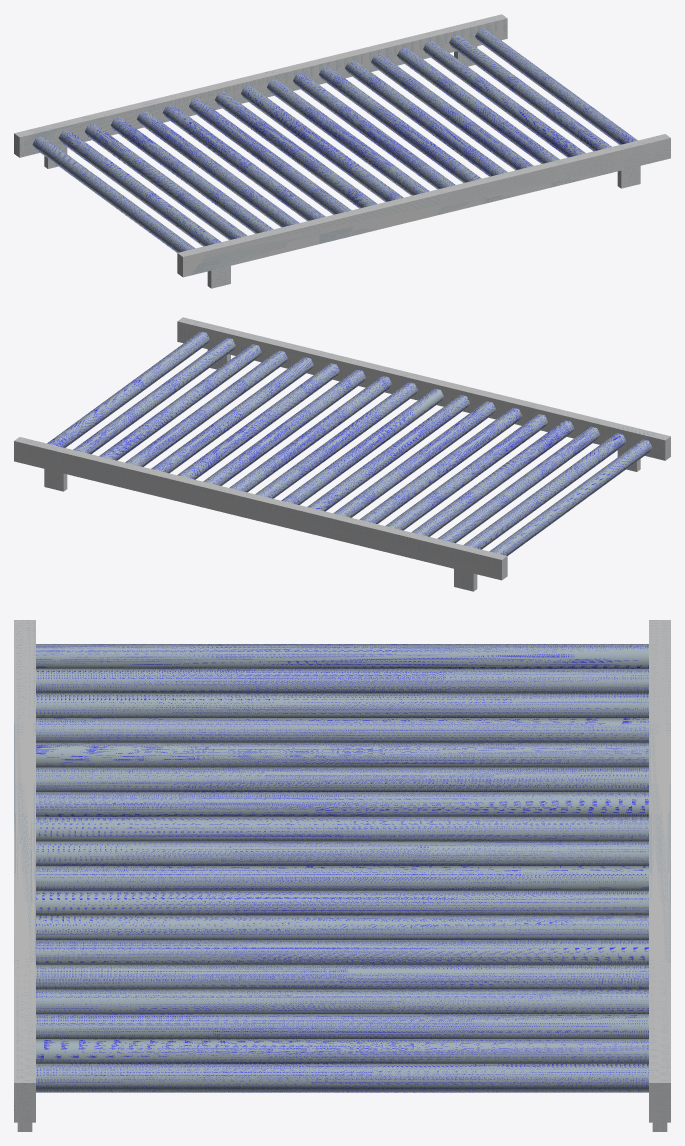
The model's file is pallet_conveyer.fbx.
The picture shows the model from 3 angles, top to bottom: view 1: azimuth 30°, elevation 25°; view 2: azimuth 150°, elevation 25°; view 3: azimuth 270°, elevation 25°; orthographic projection. The views are drawn at different scales.
Visible parts, largest first — view 1: barre_de_convoyeur2, barre_de_convoyeur1, barre_conv3, barre_conv13, barre_conv1, barre_conv7, barre_conv10, barre_conv16, barre_conv17, barre_conv2, barre_conv4, barre_conv6 (+10 smaller); view 2: barre_de_convoyeur1, barre_de_convoyeur2, barre_conv3, barre_conv13, barre_conv1, barre_conv7, barre_conv10, barre_conv16, barre_conv17, barre_conv2, barre_conv4, barre_conv6 (+10 smaller); view 3: barre_conv18, barre_conv2, barre_conv5, barre_conv8, barre_conv11, barre_conv14, barre_conv1, barre_conv3, barre_conv4, barre_conv6, barre_conv7, barre_conv9 (+8 smaller).
Part boxes in pixels (box(x1,y1,x2,y2)): barre_de_convoyeur2: box(177, 134, 670, 277); barre_de_convoyeur1: box(14, 14, 507, 157); barre_conv3: box(85, 123, 247, 240); barre_conv13: box(345, 60, 507, 176); barre_conv1: box(32, 136, 195, 252); barre_conv7: box(189, 98, 351, 214); barre_conv10: box(267, 79, 429, 195); barre_conv16: box(423, 41, 585, 157); barre_conv17: box(449, 34, 611, 151); barre_conv2: box(59, 130, 221, 246); barre_conv4: box(111, 117, 273, 233); barre_conv6: box(163, 104, 325, 220); barre_de_convoyeur1: box(14, 437, 507, 580); barre_de_convoyeur2: box(177, 317, 670, 460); barre_conv3: box(437, 426, 599, 543); barre_conv13: box(177, 363, 339, 479); barre_conv1: box(489, 439, 652, 555); barre_conv7: box(333, 401, 495, 517); barre_conv10: box(255, 382, 417, 498); barre_conv16: box(99, 344, 261, 460); barre_conv17: box(73, 337, 235, 454); barre_conv2: box(463, 433, 625, 549); barre_conv4: box(411, 420, 573, 536); barre_conv6: box(359, 407, 521, 523); barre_conv18: box(36, 1063, 648, 1092); barre_conv2: box(36, 668, 648, 693); barre_conv5: box(36, 742, 648, 767); barre_conv8: box(36, 816, 648, 841); barre_conv11: box(36, 890, 648, 915); barre_conv14: box(36, 964, 648, 989); barre_conv1: box(36, 644, 648, 668); barre_conv3: box(36, 693, 648, 717); barre_conv4: box(36, 718, 648, 742); barre_conv6: box(36, 767, 648, 791); barre_conv7: box(36, 792, 648, 816); barre_conv9: box(36, 841, 648, 865).
Size of the model in its own units: 150 by 11.6 by 90.
